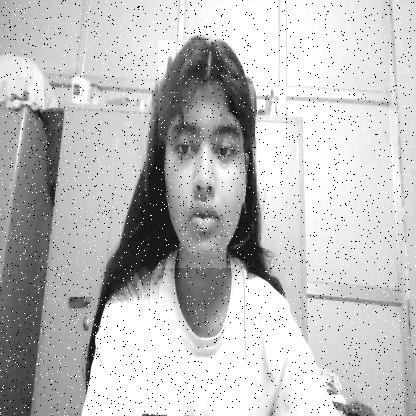Normal: (158, 40, 254, 268)
